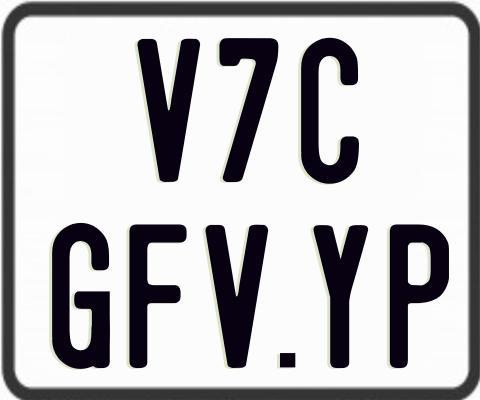7: (218, 36, 281, 181)
C: (298, 37, 358, 189)
F: (126, 223, 185, 371)
G: (49, 223, 111, 371)
P: (387, 221, 450, 367)
V: (202, 224, 265, 371), (134, 37, 197, 183)
Y: (311, 225, 371, 368)
